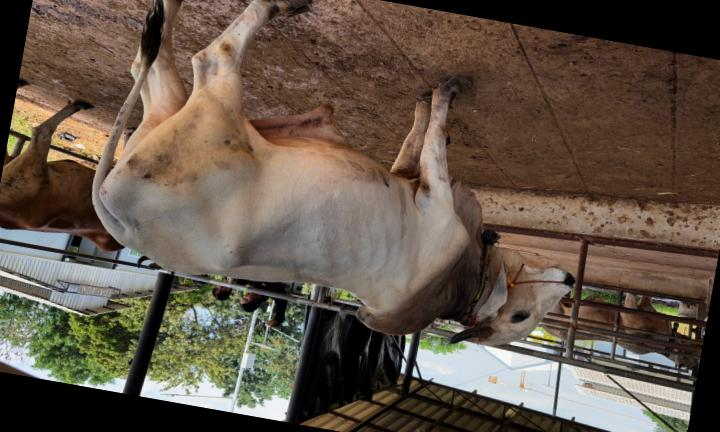Brahman: (92, 0, 574, 345)
